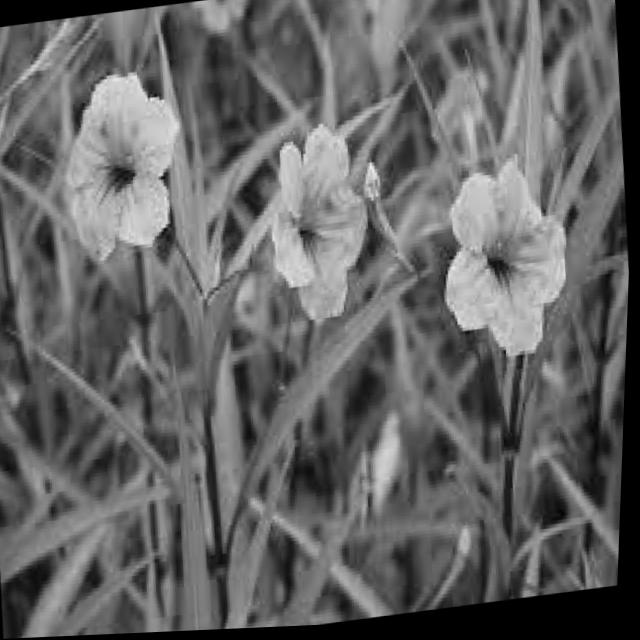Flower: (431, 135, 581, 372), (48, 66, 206, 277), (256, 133, 380, 333)
